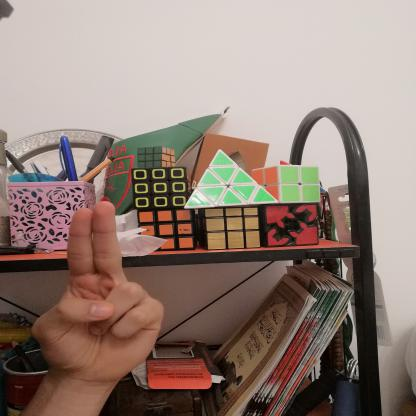TA: (15, 189, 175, 391)
